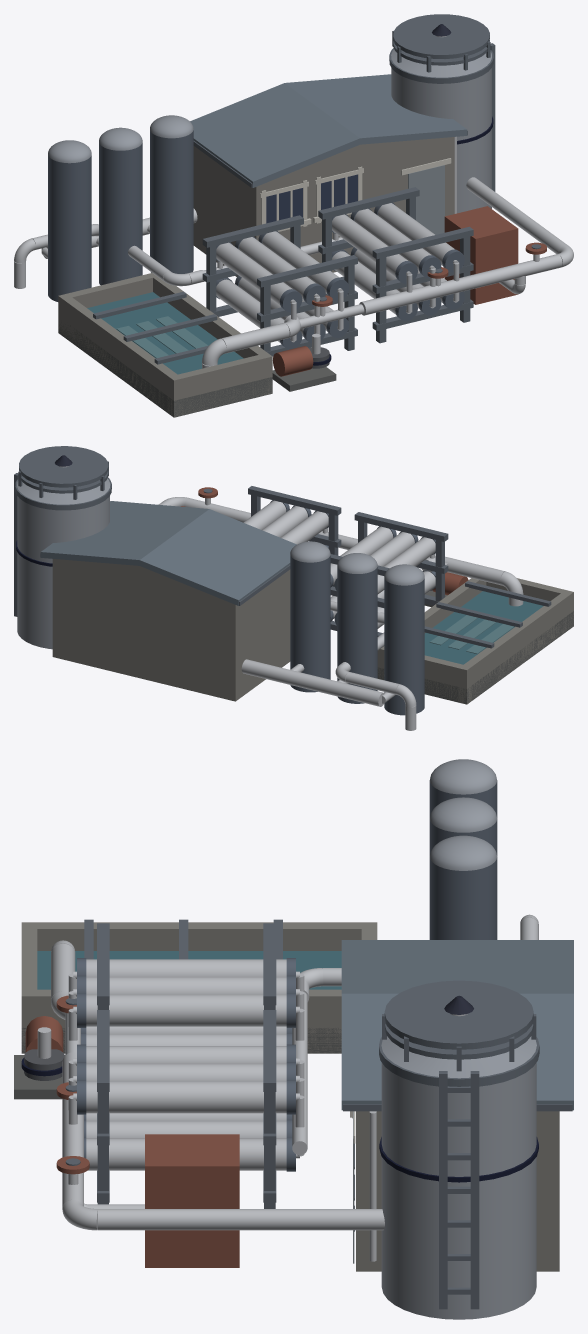
The model's file is desal_lvl3.glb.
The picture shows the model from 3 angles, top to bottom: view 1: azimuth 30°, elevation 25°; view 2: azimuth 150°, elevation 25°; view 3: azimuth 270°, elevation 25°; orthographic projection. The views are drawn at different scales.
Visible parts, largest first — view 1: desal; view 2: desal; view 3: desal.
Boxes of the visible parts, x1,y1,x2,y2 form: desal: [14, 14, 573, 417]; desal: [14, 446, 573, 730]; desal: [14, 759, 573, 1319].
Size of the model in its own units: 1 by 0.3944 by 0.6902.
